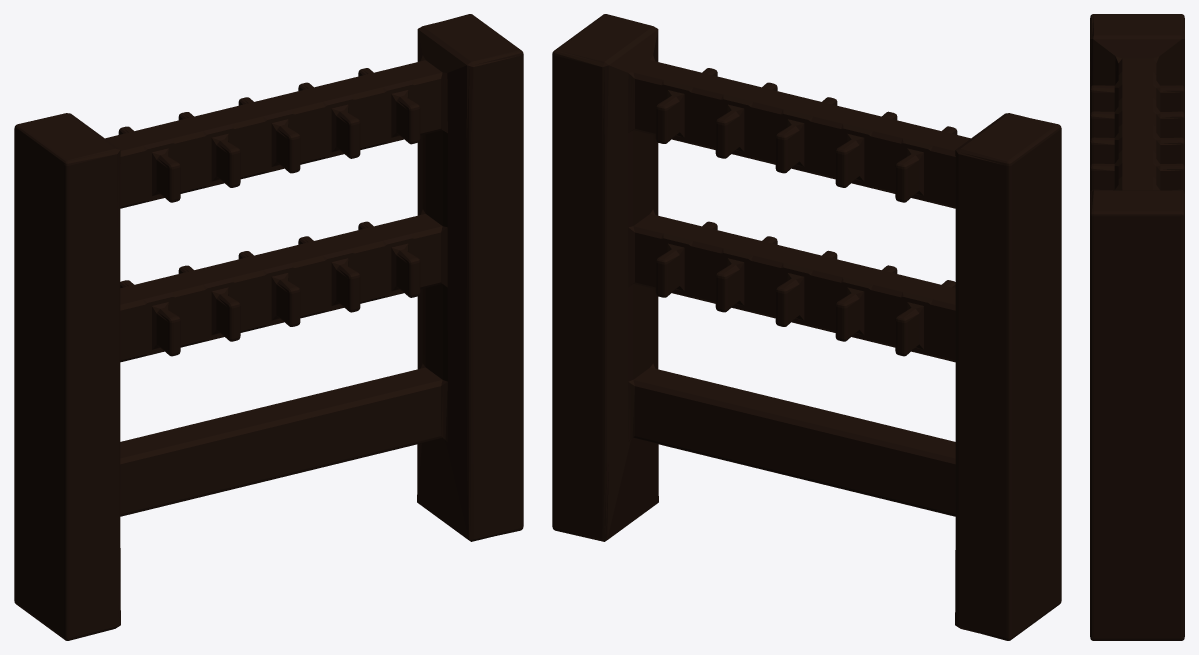
File: WeaponRack002.FBX
3 renders of one model, left to right at view 1: azimuth 30°, elevation 25°; view 2: azimuth 150°, elevation 25°; view 3: azimuth 270°, elevation 25°, orthographic. The views are drawn at different scales.
Visible parts, largest first — view 1: WeaponRack; view 2: WeaponRack; view 3: WeaponRack.
Boxes of the visible parts, x1,y1,x2,y2 form: WeaponRack: (14,14,523,640); WeaponRack: (552,14,1061,640); WeaponRack: (1090,14,1184,640).
Bounding box in the file's own units: 25 × 25 × 5.
